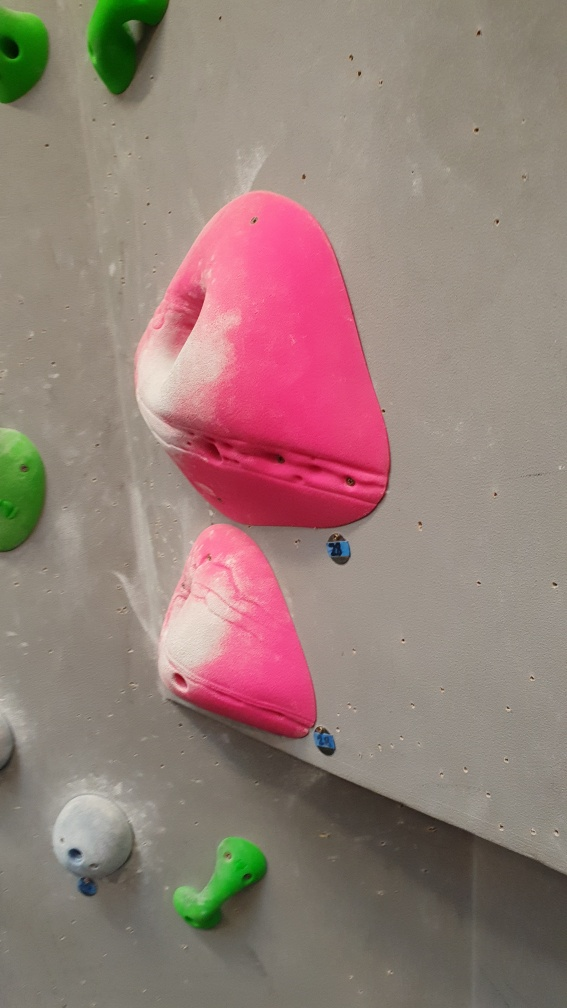Hand Start: (321, 531, 354, 569), (310, 722, 339, 760), (75, 874, 97, 898)
Pocket: (130, 190, 393, 537), (144, 514, 320, 742)
Sloper: (55, 789, 134, 881)
